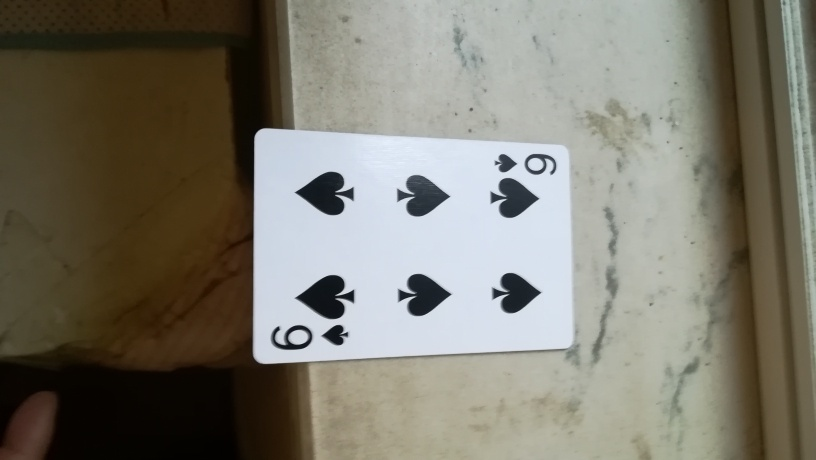ht 6: (247, 126, 589, 366)
